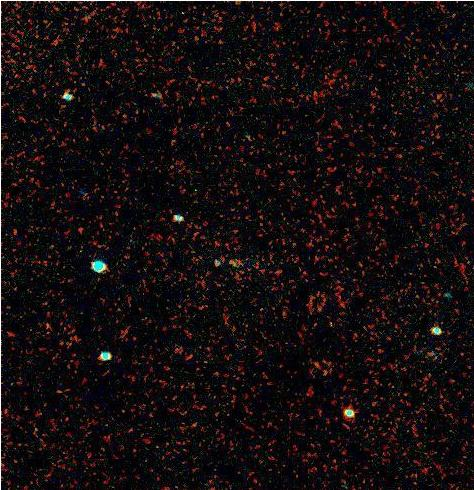star: (219, 245, 249, 275)
